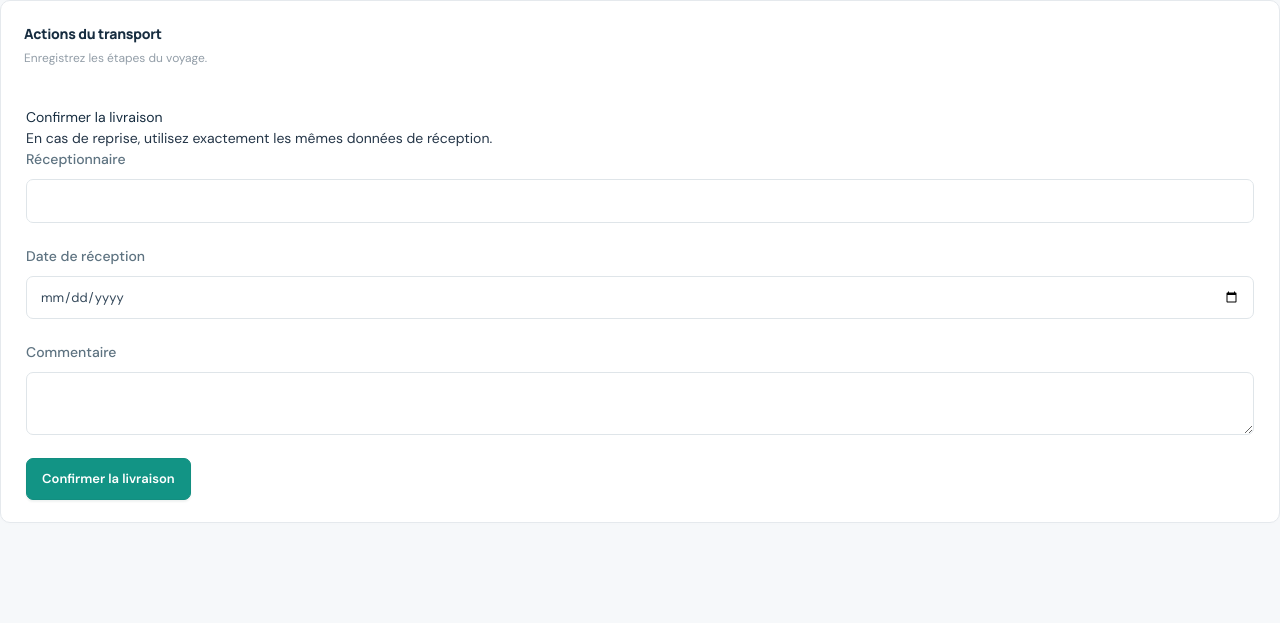
Scenario: envoie la preuve puis retire la sauvegarde après succès
Type "Client Test" into the field labelled "Réceptionnaire".
click(640, 201); type("Client Test")  # box [26, 179, 1254, 222]
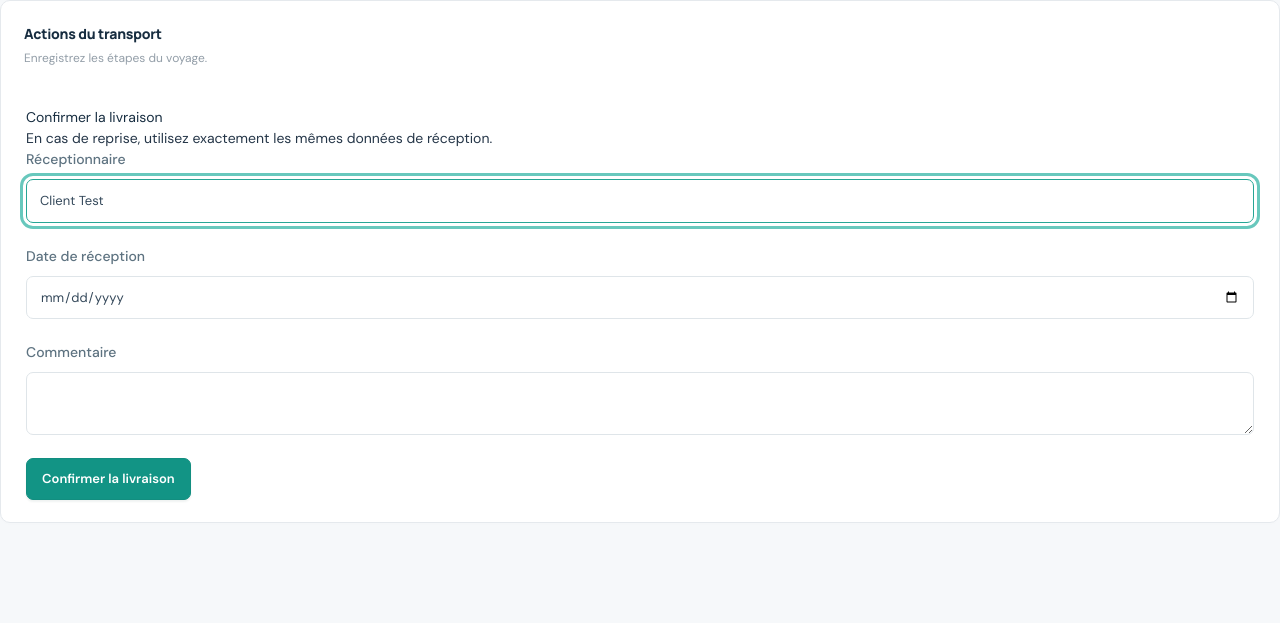
Type "2026-11-23" into the date field labelled "Date de réception".
click(640, 297); type("2026-11-23")  # box [26, 276, 1254, 319]
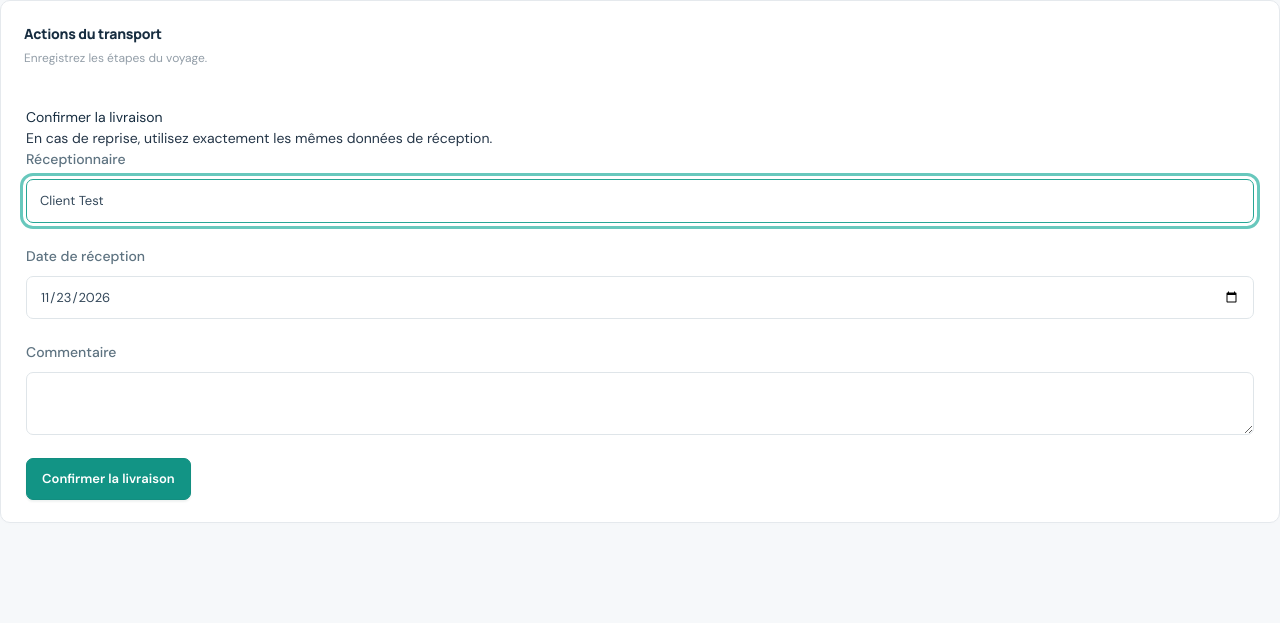
Click the button "Confirmer la livraison".
click(108, 479)  # box [26, 458, 191, 500]
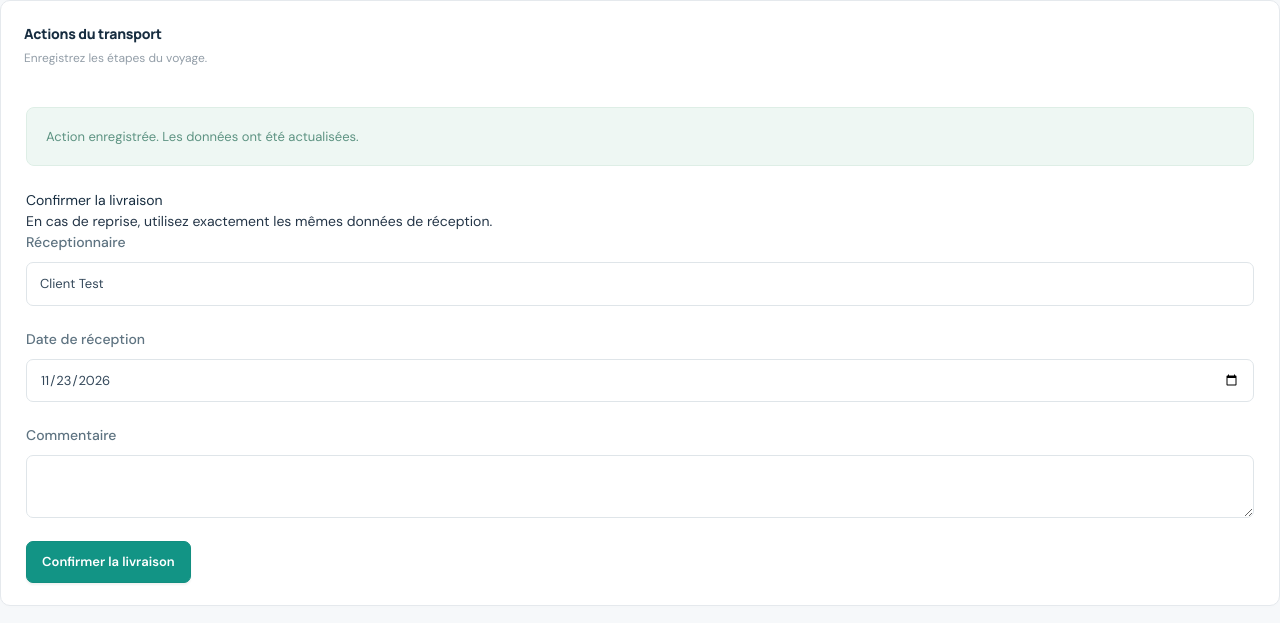
Expected: the message shows "Action enregistrée", [46, 128, 359, 145]
